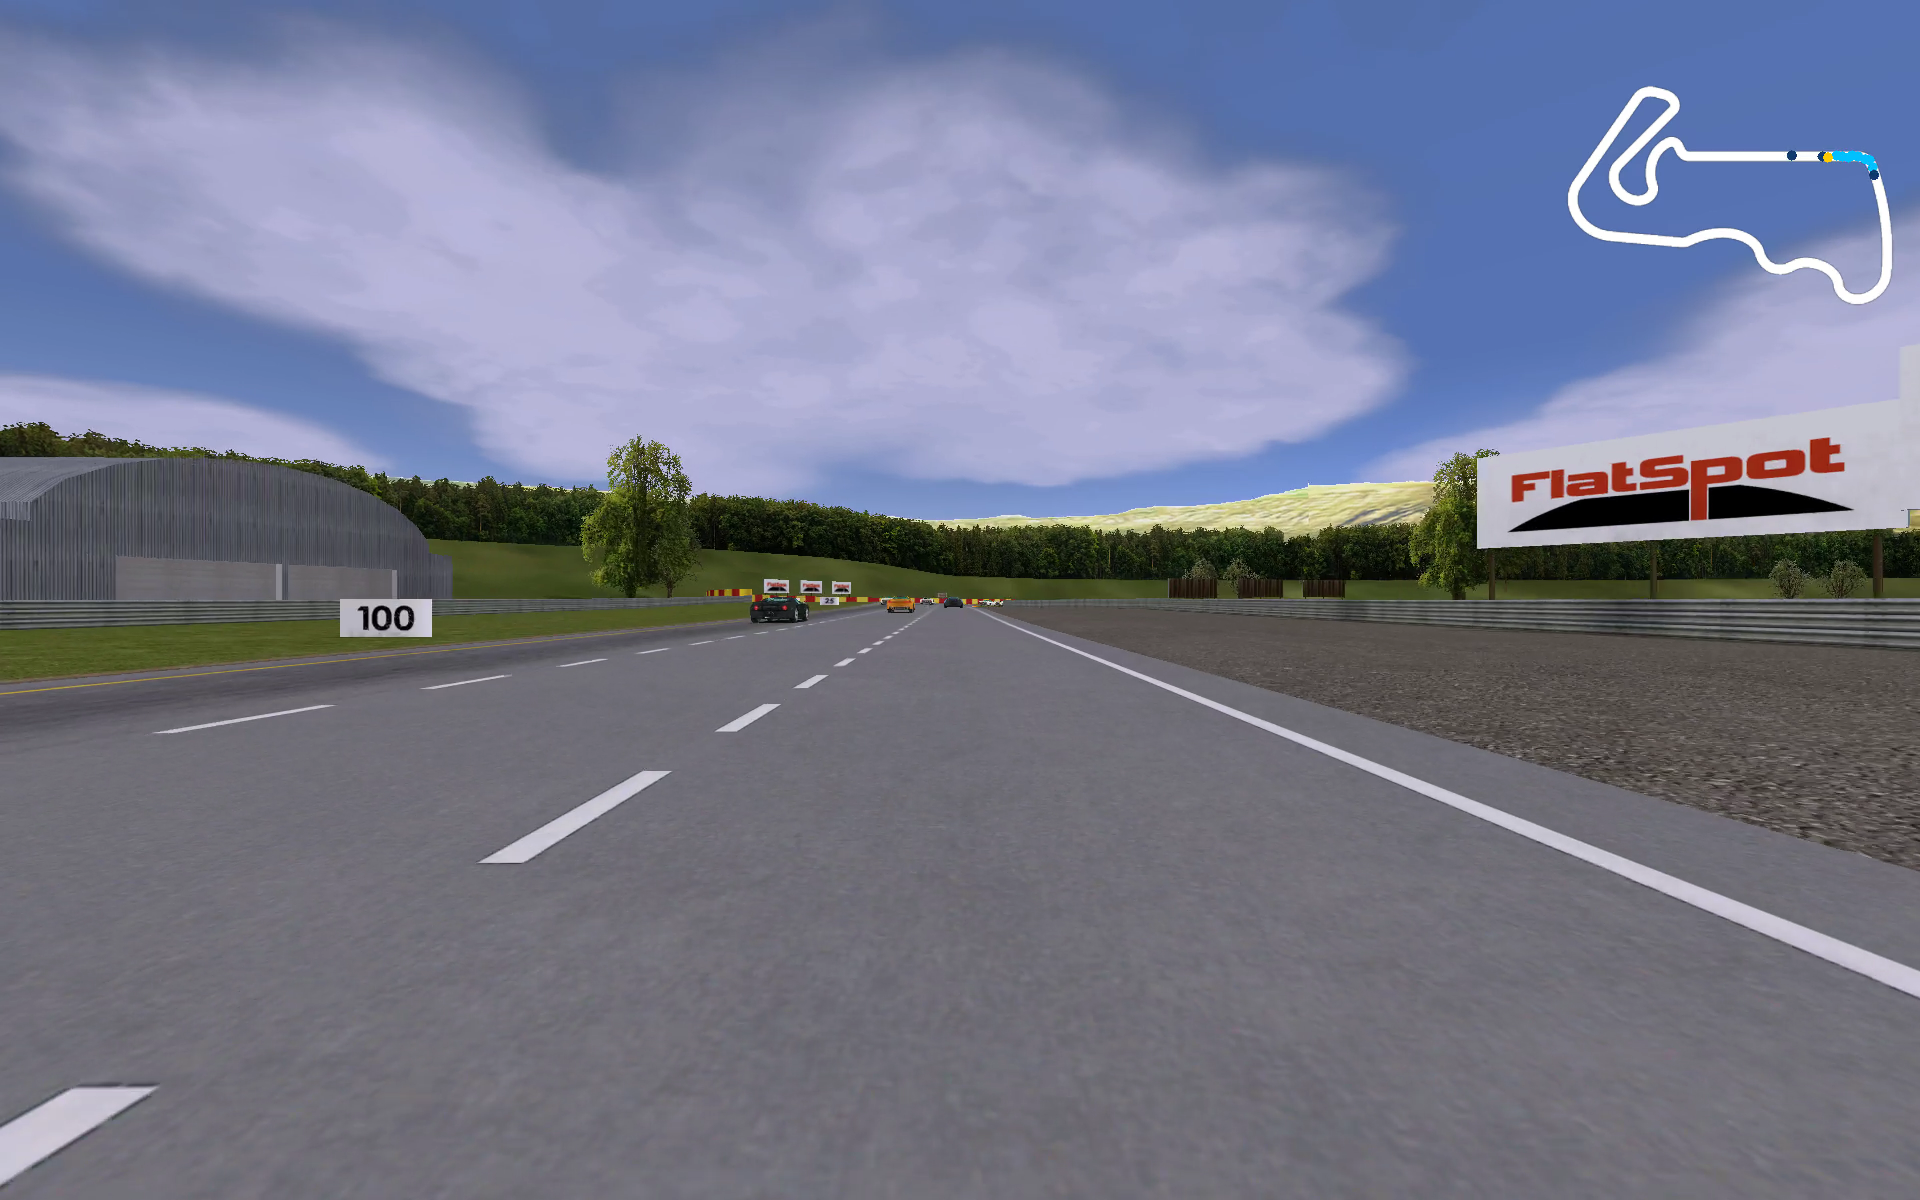car: (749, 594, 811, 625), (885, 594, 916, 612), (941, 596, 963, 610)
